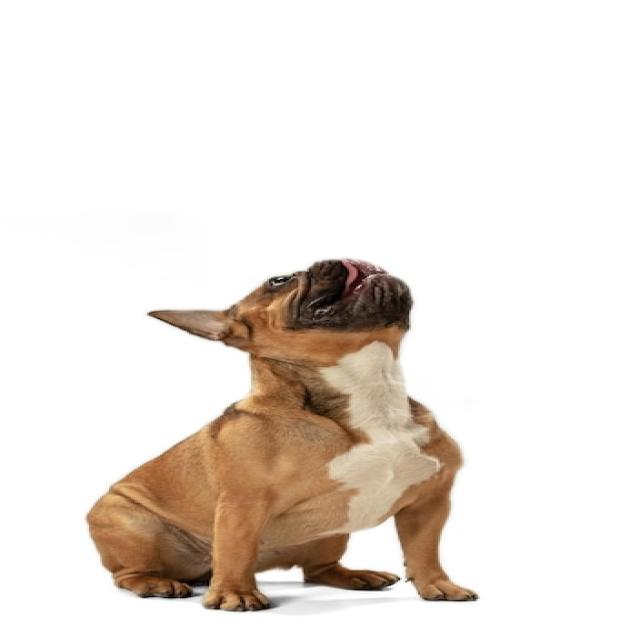Dog: (89, 256, 475, 614)
